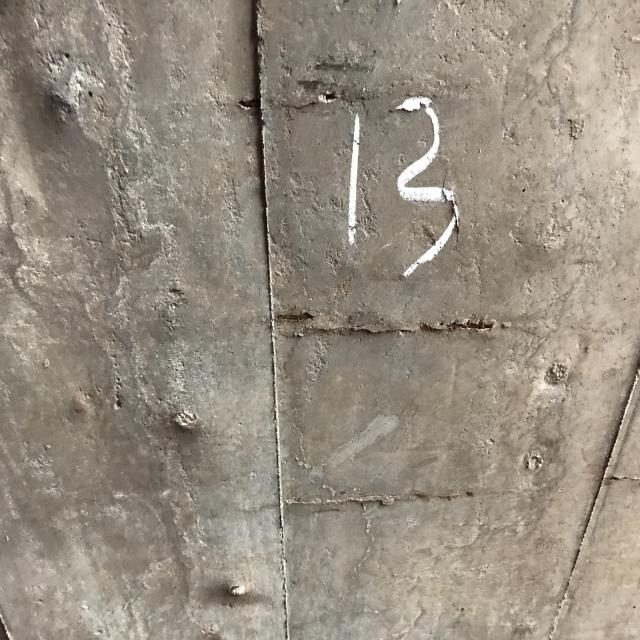horizontal crack: (268, 306, 497, 341)
